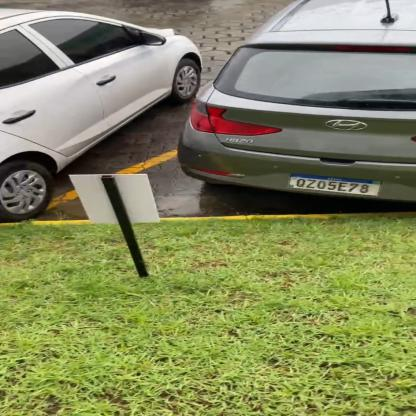Plate: (286, 169, 387, 200)
